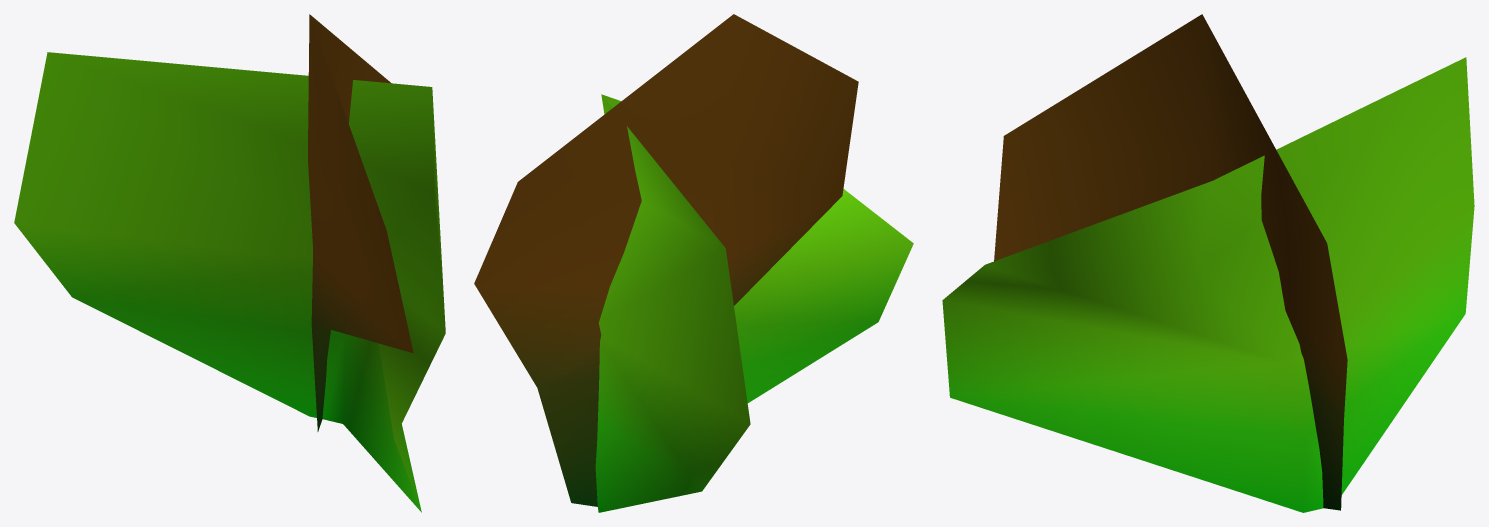
The model's file is Var1Hi30.fbx.
3 renders of one model, left to right at view 1: azimuth 30°, elevation 25°; view 2: azimuth 150°, elevation 25°; view 3: azimuth 270°, elevation 25°, orthographic. The views are drawn at different scales.
Parts seen in each view (by area): view 1: bend1; view 2: bend1; view 3: bend1.
Part boxes in pixels (x1,y1,x2,y2): bend1: [14, 14, 445, 512]; bend1: [474, 14, 913, 512]; bend1: [942, 14, 1474, 512].
Size of the model in its own units: 1.04 by 1.37 by 1.42.
